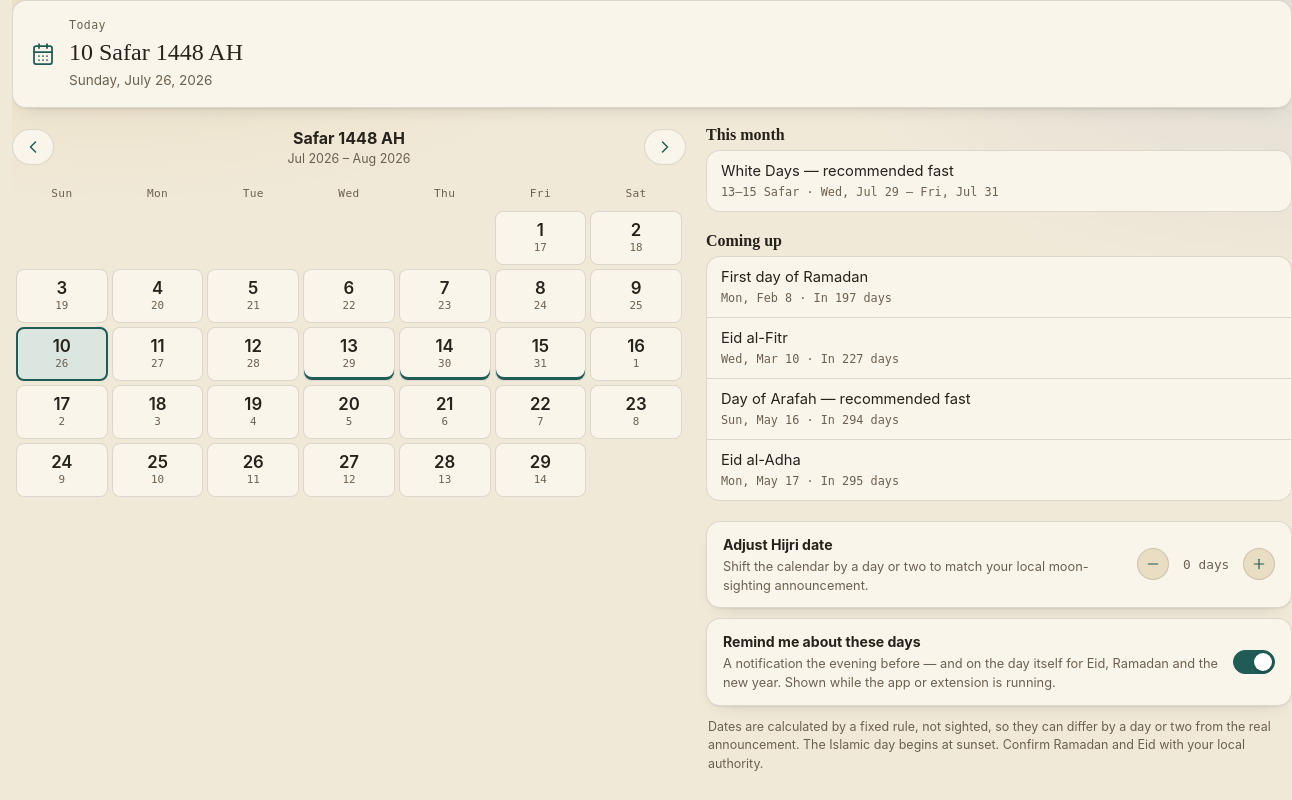
HijriCalendar — navigation › offers a way back to today only when you've moved away, and it works
This screenshot has width=1292, height=800.
Expected: the button "Back to today" is not shown
Click the button named "Next month": (665, 147) 644,129 -> 686,165
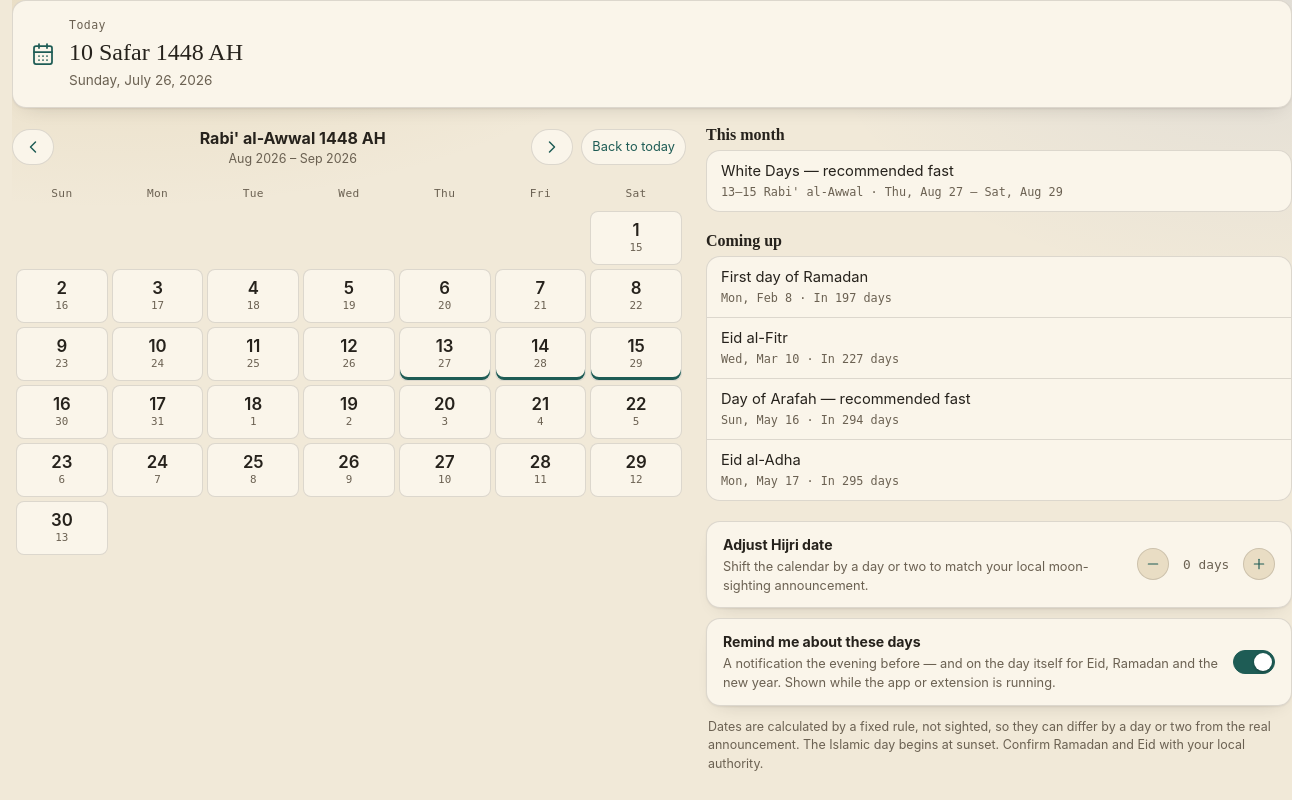
Click the button "Back to today": (634, 147) 581,129 -> 686,165
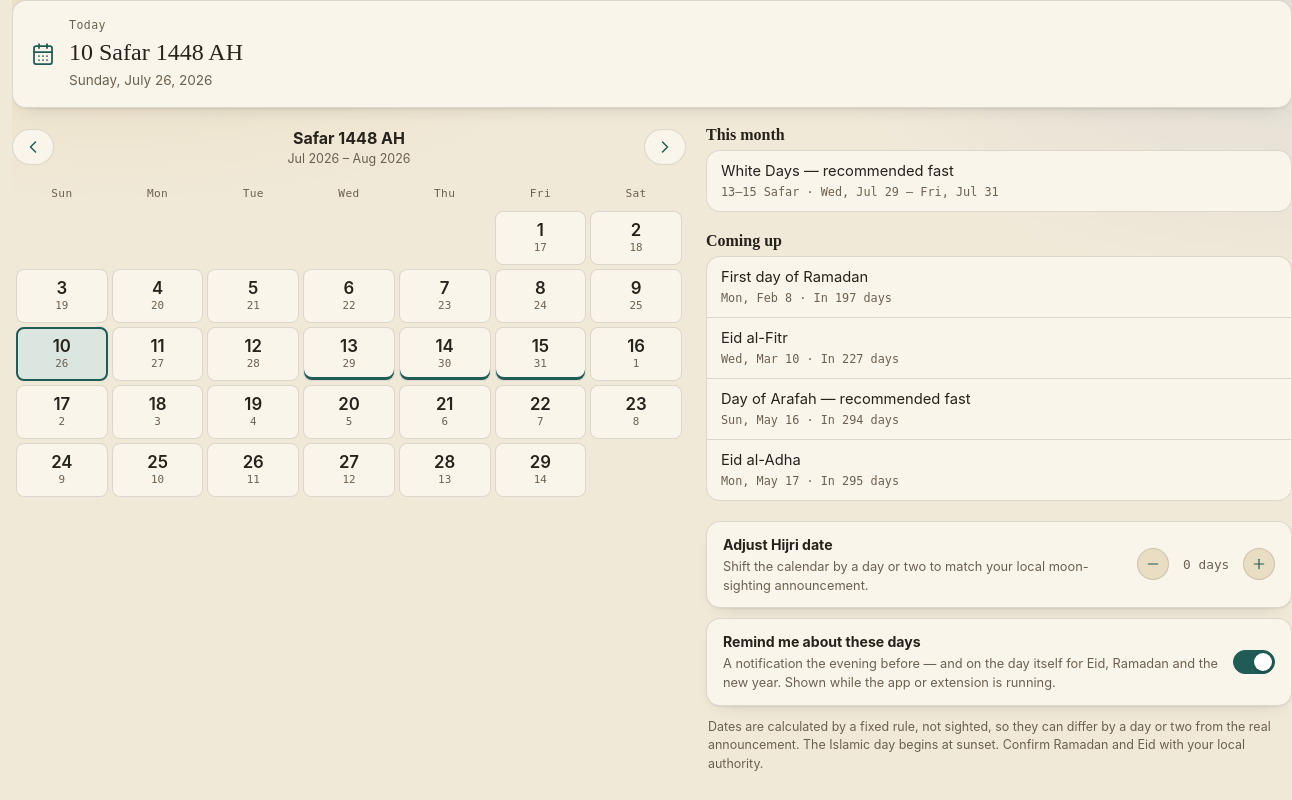
Expected: the text "Safar 1448 AH" is shown, 293,126 -> 405,150
Expected: the button "Back to today" is gone
